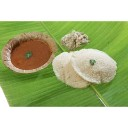idly: (74, 50, 120, 82), (52, 53, 91, 88)
